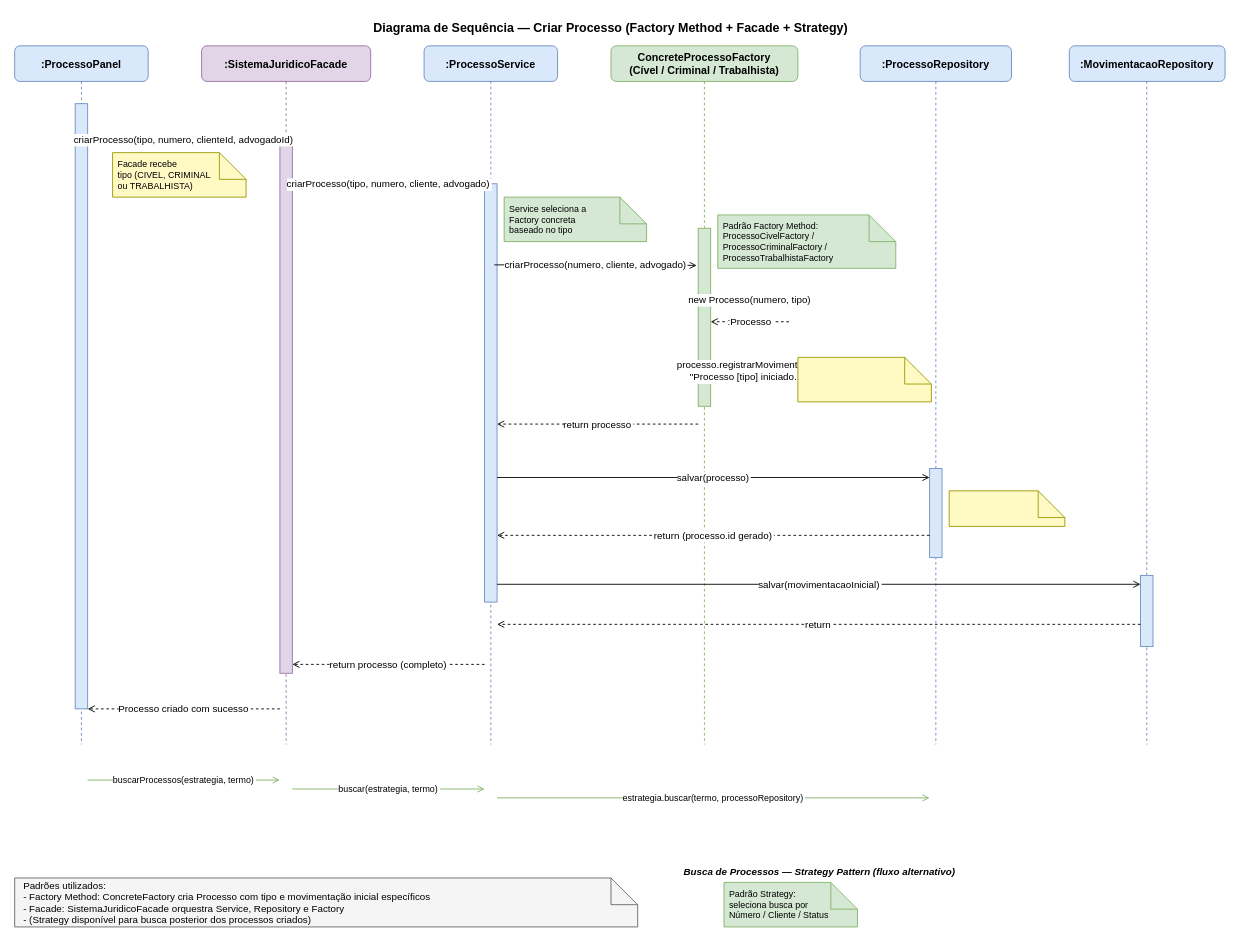
Some shapes in this 1240 by 942 pixel diagram are drawn without their labels. Here are the shapes that lost their labels. From the top down, the centre of each, then its label:
the point at 864,379: Adiciona movimentação inicial automática (DESPACHO)
the point at 1006,508: Persiste no SQLite com JDBC direto
